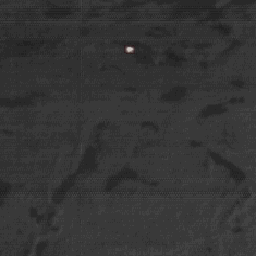Target: (125, 46, 135, 53)
